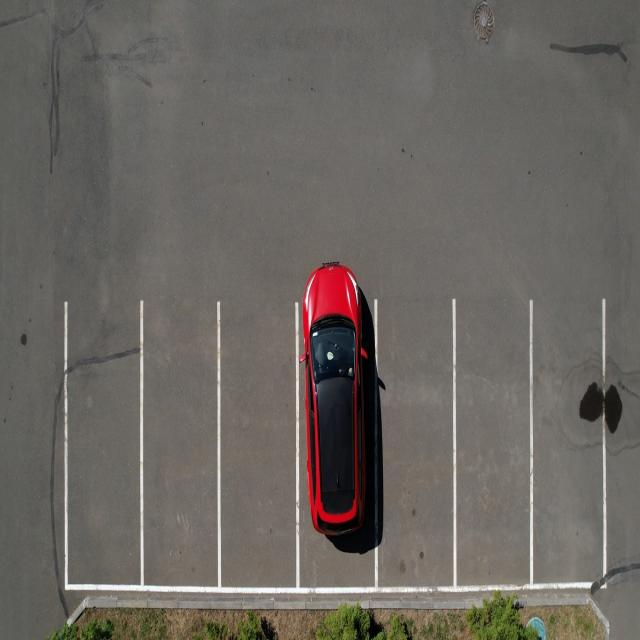space-empty: (140, 300, 220, 590), (453, 297, 533, 586), (528, 297, 608, 586), (63, 304, 144, 589), (378, 293, 456, 586), (220, 299, 298, 590)
space-occupied: (296, 283, 374, 582)
